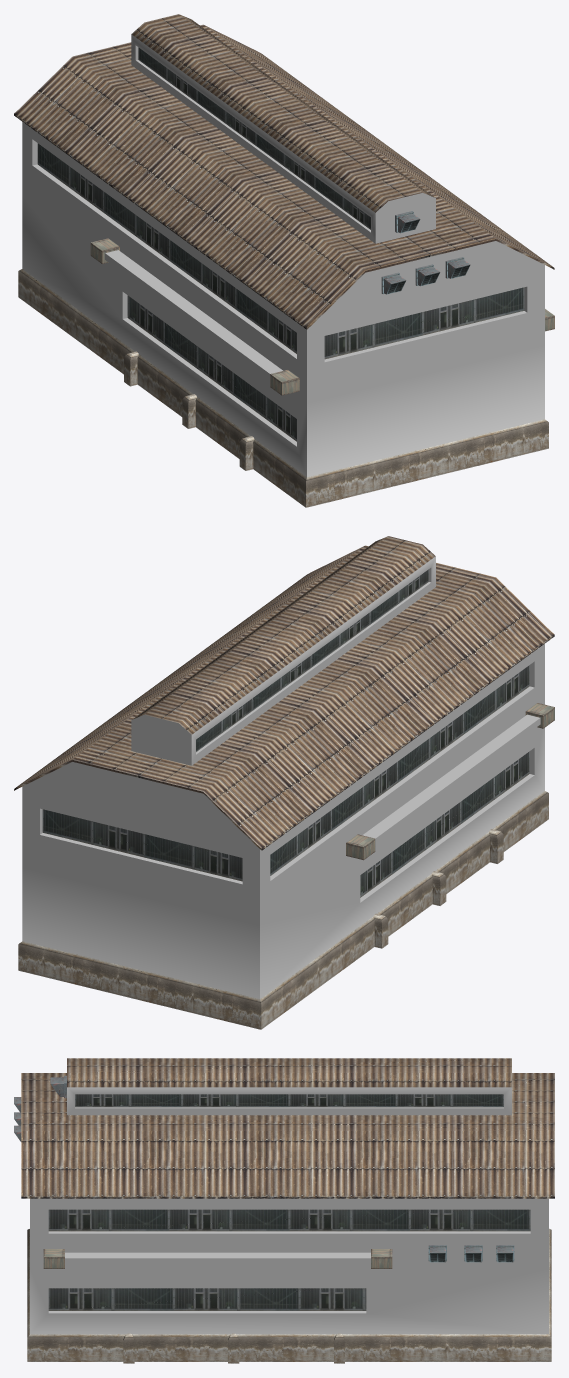
File: hall01_lod1.fbx
The picture shows the model from 3 angles, top to bottom: view 1: azimuth 30°, elevation 25°; view 2: azimuth 150°, elevation 25°; view 3: azimuth 270°, elevation 25°; orthographic projection. The views are drawn at different scales.
Visible parts, largest first — view 1: Mesh Object, Mesh Object_ncl1_1; view 2: Mesh Object, Mesh Object_ncl1_1; view 3: Mesh Object, Mesh Object_ncl1_1.
Part boxes in pixels (x1,y1,x2,y2): Mesh Object: (14, 14, 554, 507); Mesh Object_ncl1_1: (90, 211, 554, 395); Mesh Object: (14, 536, 554, 1029); Mesh Object_ncl1_1: (346, 703, 554, 860); Mesh Object: (21, 1058, 554, 1363); Mesh Object_ncl1_1: (14, 1075, 514, 1268).
Size of the model in its own units: 14.1 by 13.1 by 26.56.
